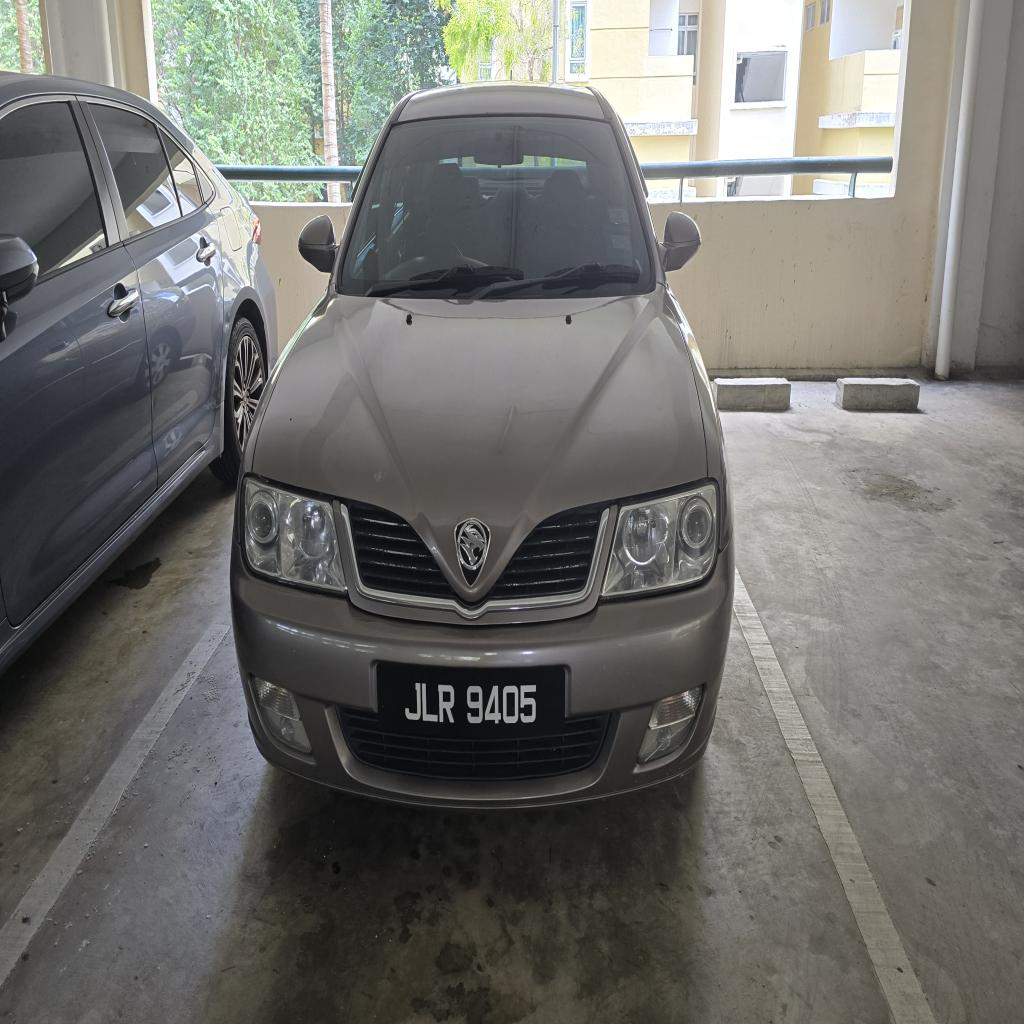car: (232, 86, 733, 806)
car plate: (377, 663, 565, 737)
